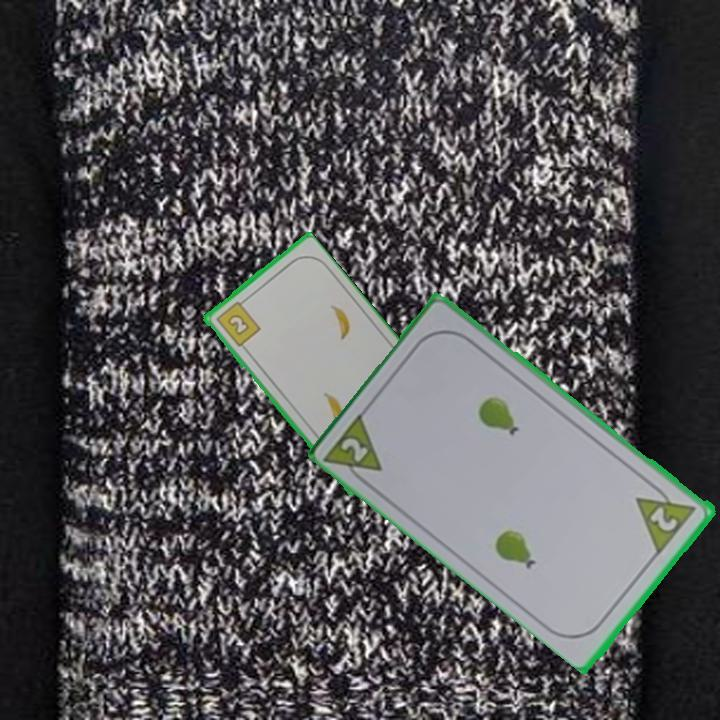2b: (212, 296, 263, 349)
2p: (322, 406, 386, 491), (632, 477, 700, 556)
